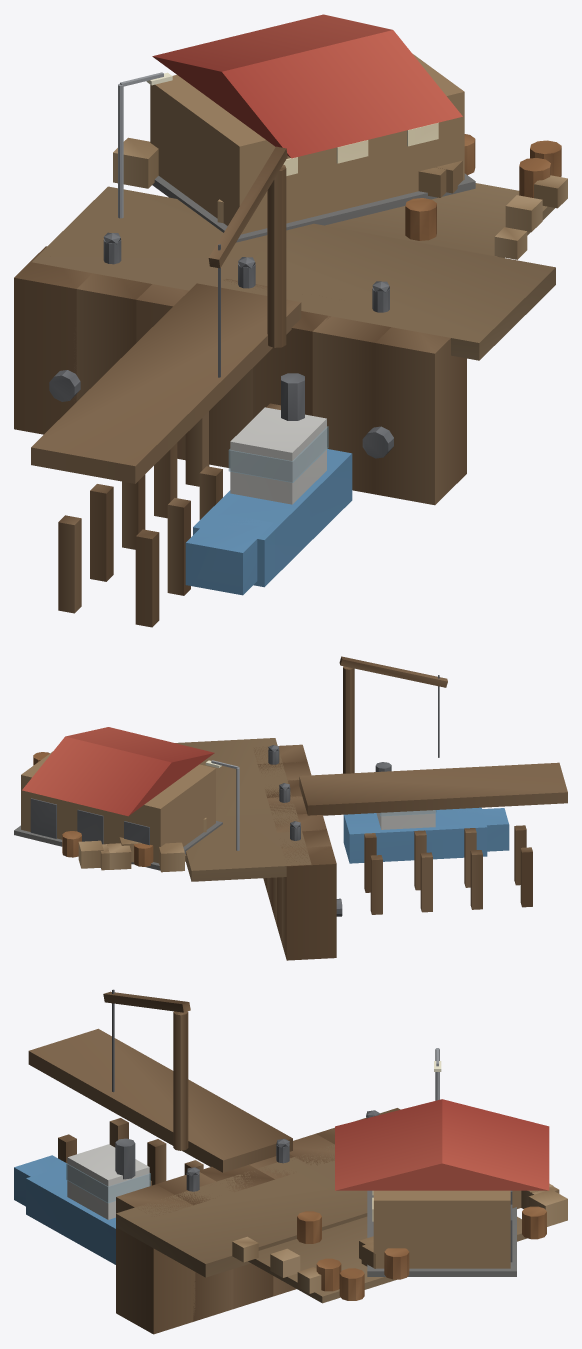
Rendered from Port_P1.fbx.
3 views of the same model, one above another, from view 1: azimuth 30°, elevation 25°; view 2: azimuth 150°, elevation 25°; view 3: azimuth 270°, elevation 25° (orthographic). The views are drawn at different scales.
Visible parts, largest first — view 1: Port.Shed, Port.QuayWall, Port.Apron, Port.Pier0, Port.Boat, Port.Crates, Port.Derrick, Port.Lamp0; view 2: Port.Shed, Port.Pier0, Port.Apron, Port.QuayWall, Port.Boat, Port.Crates, Port.Derrick, Port.Lamp0; view 3: Port.Shed, Port.Apron, Port.Pier0, Port.QuayWall, Port.Boat, Port.Crates, Port.Derrick.
Part boxes in pixels (box(x1,y1,x2,y2)): Port.Shed: box(150, 14, 475, 242); Port.QuayWall: box(14, 246, 466, 505); Port.Apron: box(31, 183, 555, 360); Port.Pier0: box(31, 283, 301, 627); Port.Boat: box(185, 373, 352, 595); Port.Crates: box(113, 134, 567, 259); Port.Derrick: box(208, 146, 287, 377); Port.Lamp0: box(118, 72, 172, 218); Port.Shed: box(14, 727, 222, 870); Port.Pier0: box(299, 762, 567, 914); Port.Apron: box(131, 738, 311, 881); Port.QuayWall: box(254, 744, 342, 960); Port.Boat: box(343, 762, 509, 863); Port.Crates: box(33, 752, 206, 872); Port.Derrick: box(339, 656, 447, 773); Port.Lamp0: box(205, 760, 239, 850); Port.Shed: box(335, 1099, 549, 1276); Port.Apron: box(116, 1144, 527, 1303); Port.Pier0: box(28, 1028, 292, 1185); Port.QuayWall: box(116, 1108, 400, 1334); Port.Boat: box(14, 1138, 150, 1264); Port.Crates: box(232, 1183, 567, 1300); Port.Derrick: box(103, 989, 190, 1150).
Size of the model in its own units: 4932 by 2495 by 4441.
